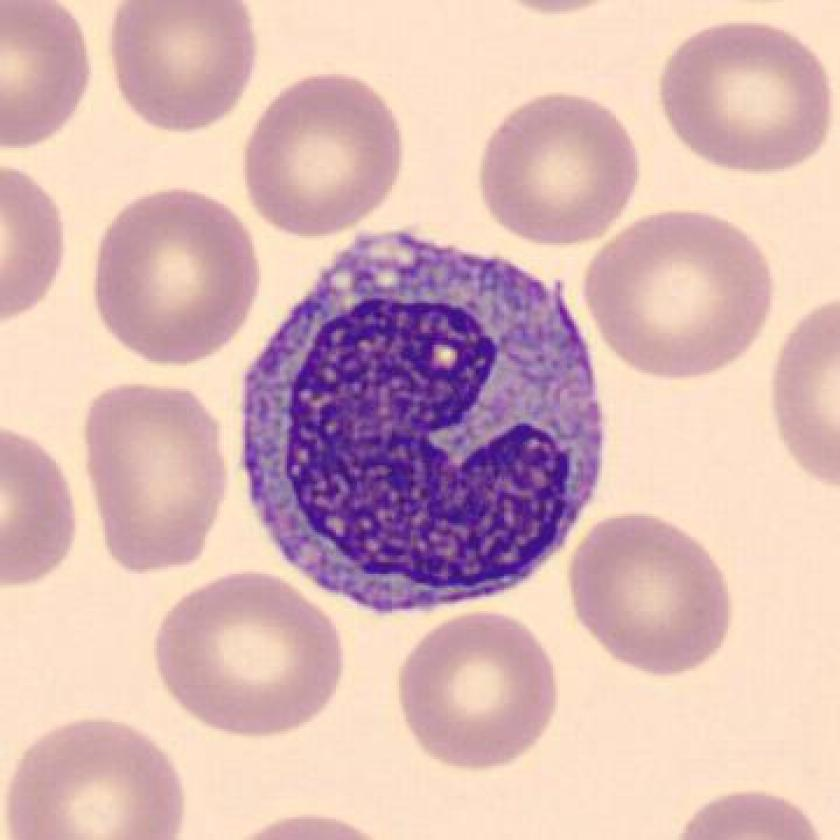monocyte: (225, 214, 622, 630)
